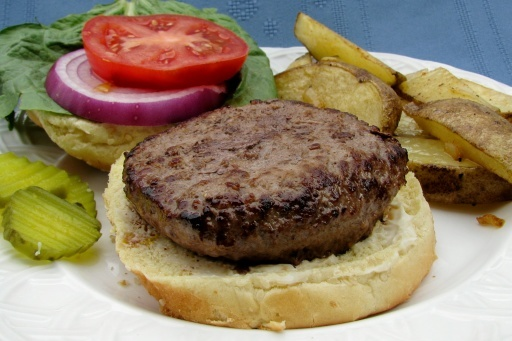background: (0, 0, 410, 177), (0, 59, 83, 139)
